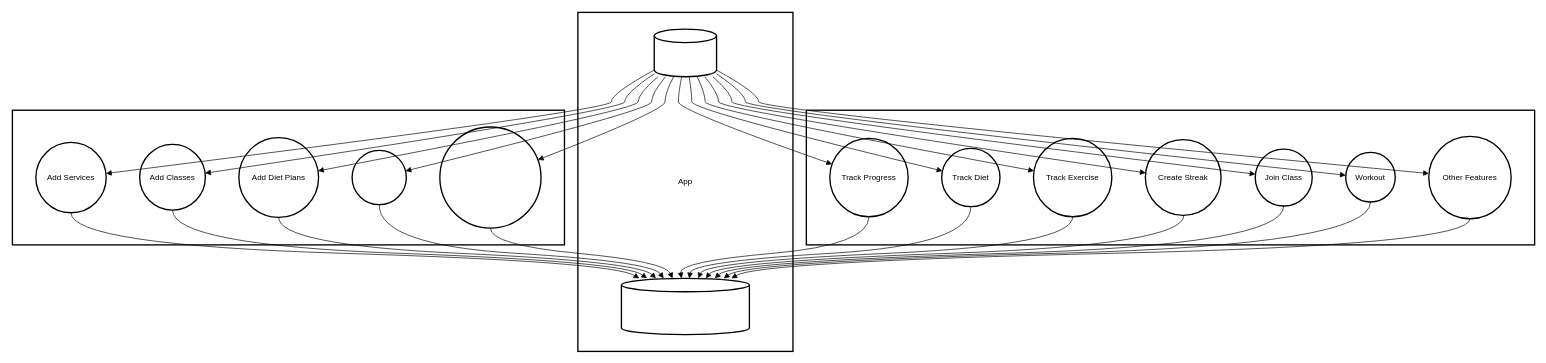
This 1546x363 diagram has some shape labels left out. Each missing label, with the centre of its shape:
"Add Other Services" belongs at [490,177].
"Add Shop" belongs at [379,177].
"Design App" belongs at [685,52].
"Implement Functionality" belongs at [685,306].
